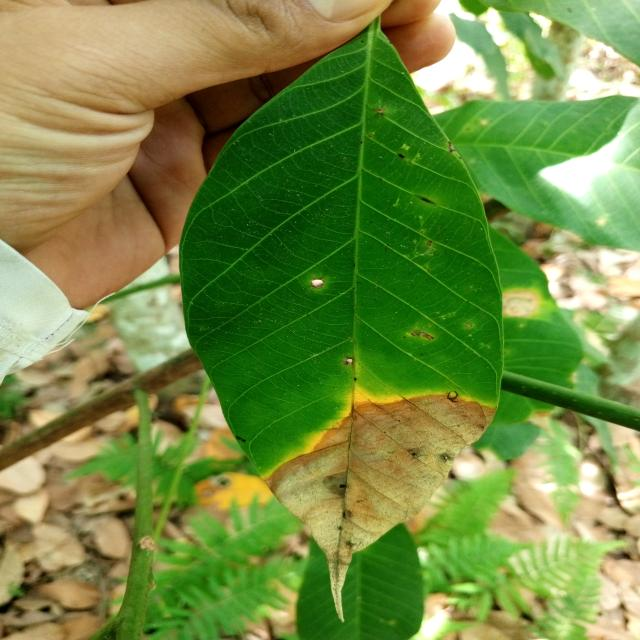Colletotrichum: (310, 278, 325, 289), (346, 358, 354, 363), (339, 484, 346, 488), (412, 452, 416, 456), (368, 134, 373, 137)
Leaf-Blight: (264, 393, 498, 623)
